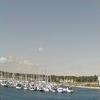Boat: (4, 70, 75, 100)
